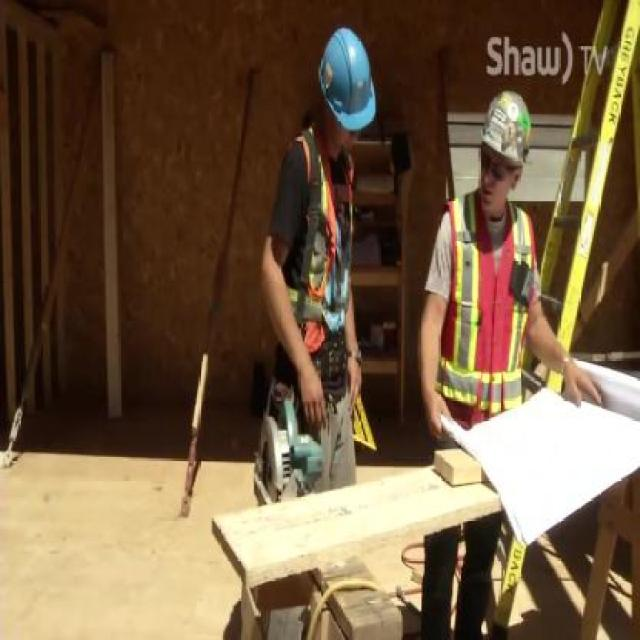Vest: (437, 190, 534, 430), (284, 122, 354, 356)
helmet: (318, 28, 376, 132), (478, 91, 532, 167)
person: (421, 92, 599, 450), (266, 31, 376, 499)
